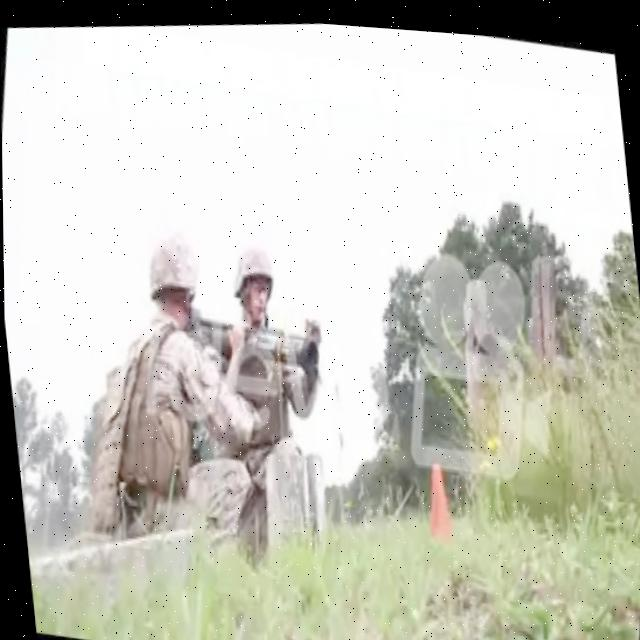rocket: (205, 297, 326, 390)
